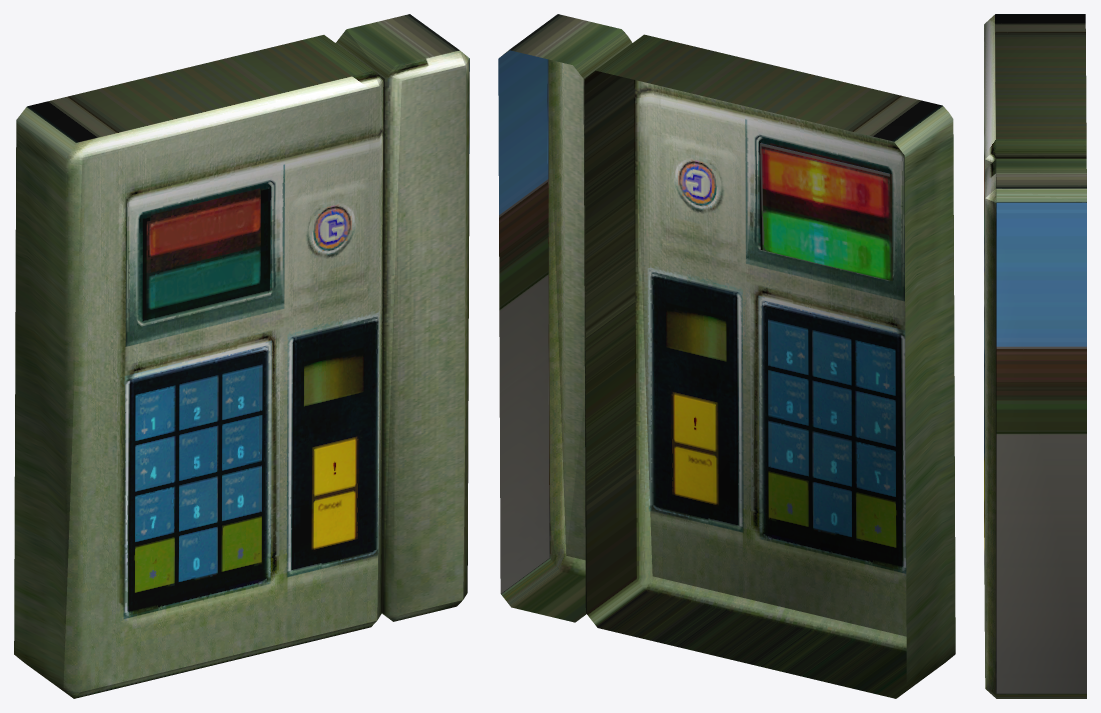
File: box_key.fbx
3 views of the same model, side by side, from view 1: azimuth 30°, elevation 25°; view 2: azimuth 150°, elevation 25°; view 3: azimuth 270°, elevation 25° (orthographic). The views are drawn at different scales.
Visible parts, largest first — view 1: Mesh_0008.001; view 2: Mesh_0008.001, Mesh_0008; view 3: Mesh_0008.001.
Boxes of the visible parts, <box> form: Mesh_0008.001: <box>14,14,469,698</box>; Mesh_0008.001: <box>498,14,955,698</box>; Mesh_0008: <box>760,143,892,280</box>; Mesh_0008.001: <box>984,14,1086,698</box>.
Bounding box in the file's own units: 38.33 × 50.16 × 9.12.
